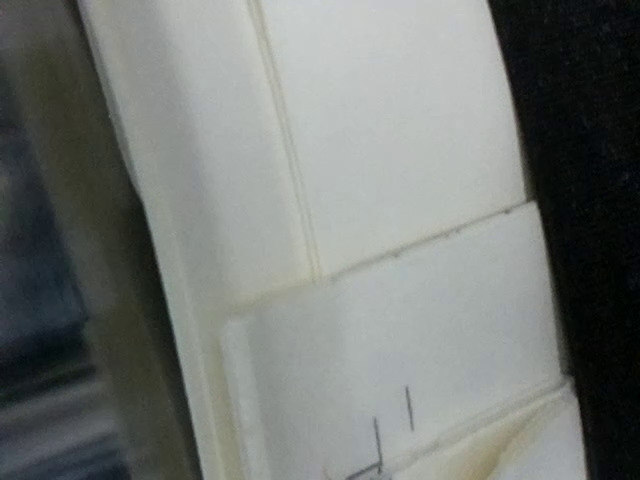misaligned: (332, 415, 396, 479)
